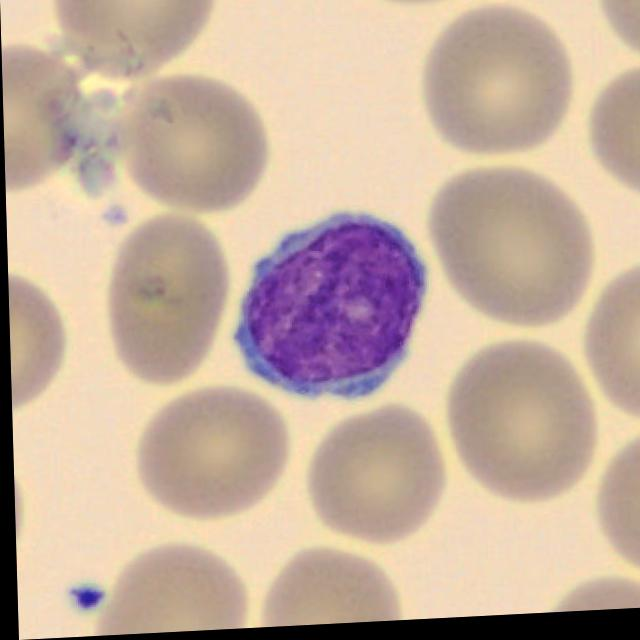Linfocito atipico: (232, 217, 423, 403)
